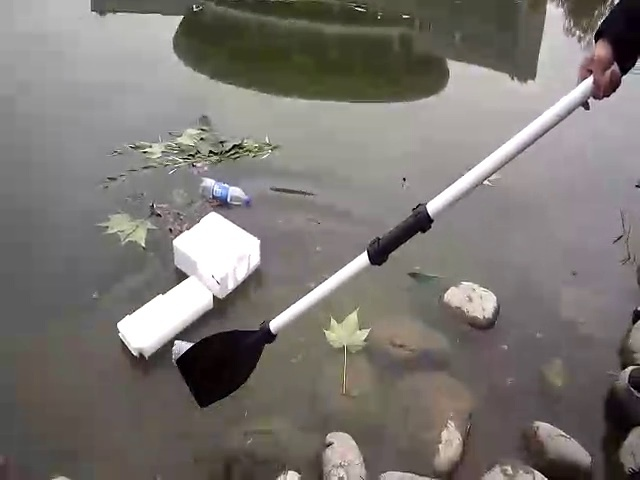bottle: (193, 173, 256, 207)
leaf: (121, 118, 282, 168), (98, 208, 160, 250), (318, 314, 376, 352)
paomo: (162, 211, 264, 291), (110, 281, 212, 341)
